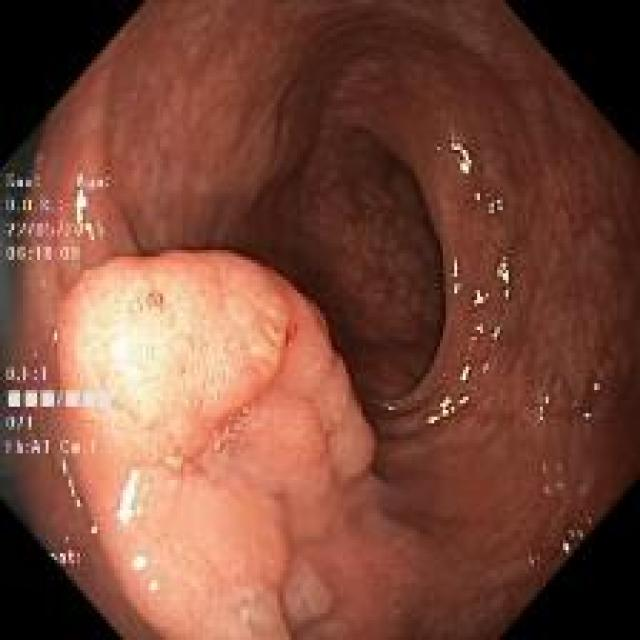Polyps: (58, 252, 375, 640)
